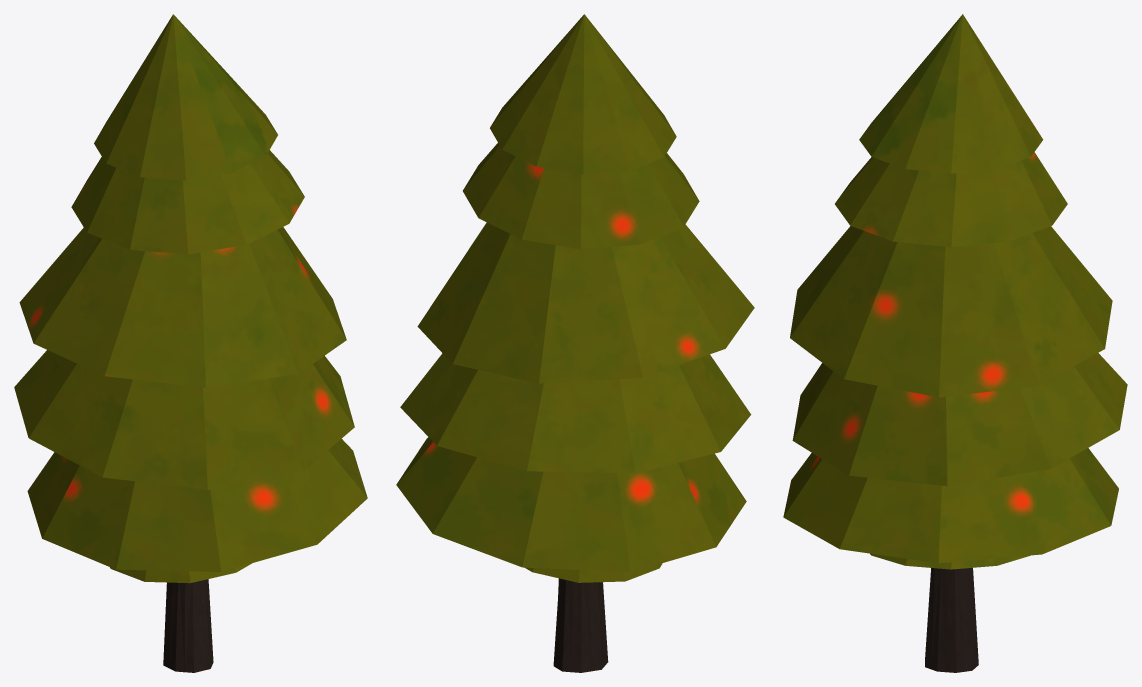
The model's file is tree-olive-green-flowers_3.fbx.
The picture shows the model from 3 angles, left to right: view 1: azimuth 30°, elevation 25°; view 2: azimuth 150°, elevation 25°; view 3: azimuth 270°, elevation 25°; orthographic projection.
Visible parts, largest first — view 1: Cylinder.015; view 2: Cylinder.015; view 3: Cylinder.015.
Boxes of the visible parts, x1,y1,x2,y2 form: Cylinder.015: [14, 14, 367, 672]; Cylinder.015: [396, 14, 754, 672]; Cylinder.015: [783, 14, 1127, 672].
Bounding box in the file's own units: 139 × 279 × 135.
